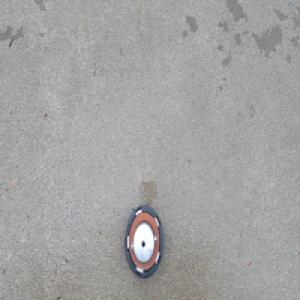FuelCap: (124, 203, 165, 279)
